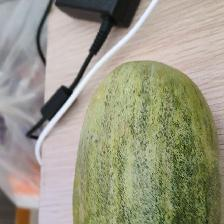gua: (97, 77, 202, 218)
